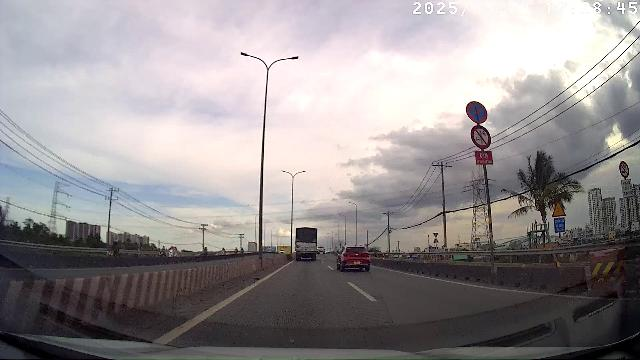130-cam-dung-va-do-xe: (465, 100, 488, 124)
